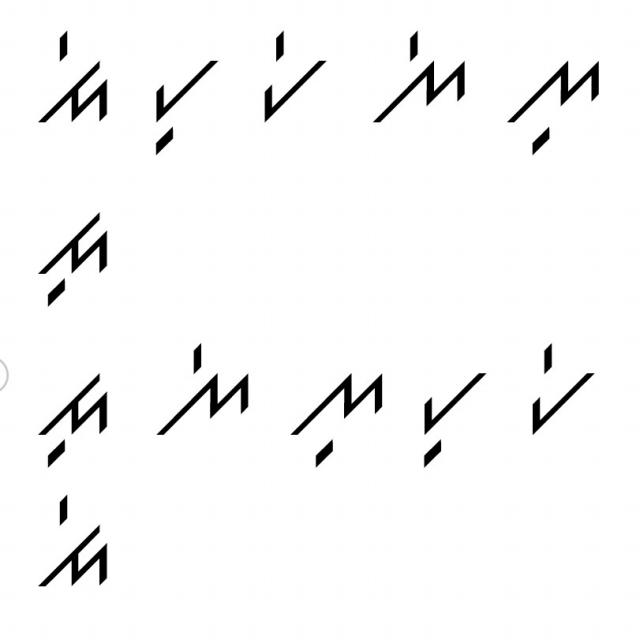de: (25, 492, 116, 600), (38, 26, 118, 135)
du: (32, 365, 120, 478), (29, 209, 120, 312)
ne: (144, 334, 264, 449), (370, 28, 470, 138)
nu: (502, 49, 608, 165), (285, 357, 393, 469)
pe: (517, 331, 602, 443), (260, 23, 330, 127)
pu: (135, 44, 225, 159), (409, 361, 496, 468)
